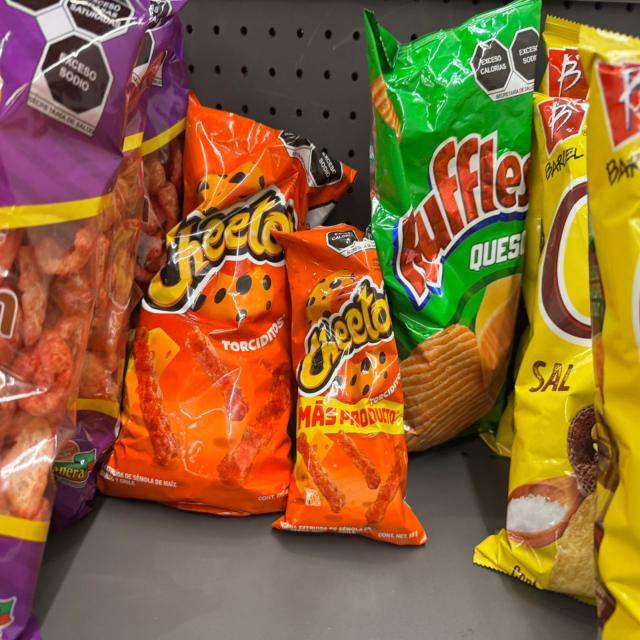CHEETOS TORCIDITOS 240GR: (272, 225, 432, 543)
Cheetos grandes: (108, 92, 355, 507)
Papas Chips Barcel 170 gr bolsa con sal: (472, 93, 594, 597), (582, 20, 640, 639), (541, 13, 579, 103)
RUFFLES QUESO 185GR: (367, 0, 546, 444)
chicharrones de cerdo intenso: (51, 21, 181, 522), (140, 0, 187, 310)
